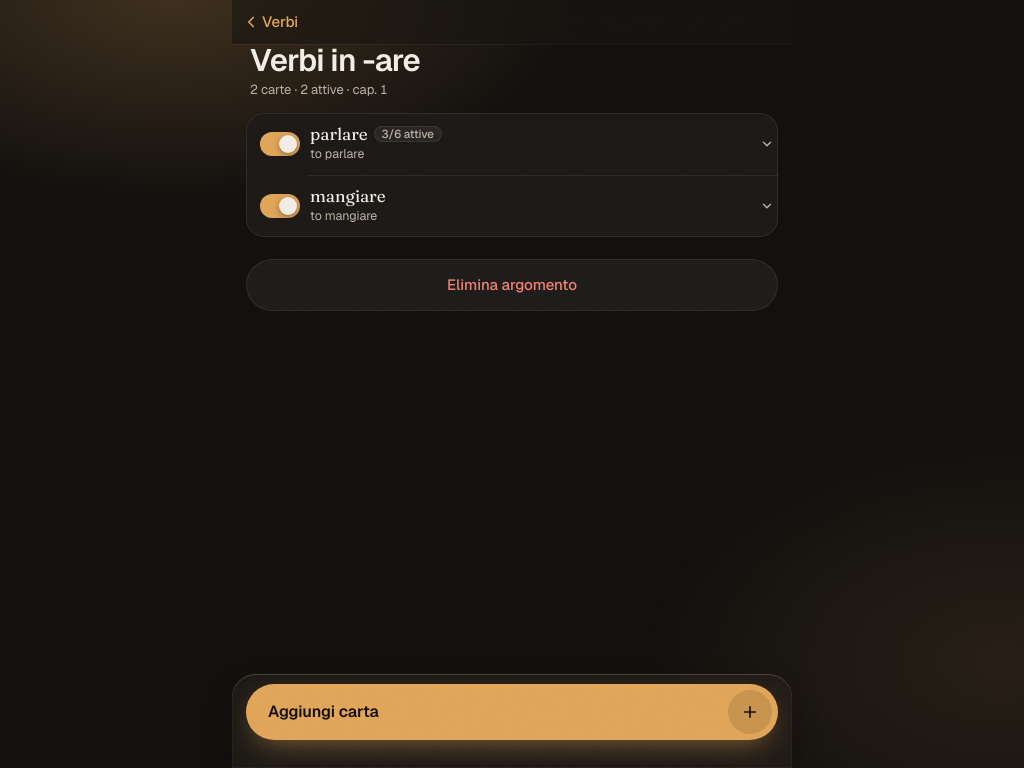
Test case: Modifica argomento › rolls a failed save back and says so
Click the switch named "mangiare": (280, 206) [254, 184, 306, 228]
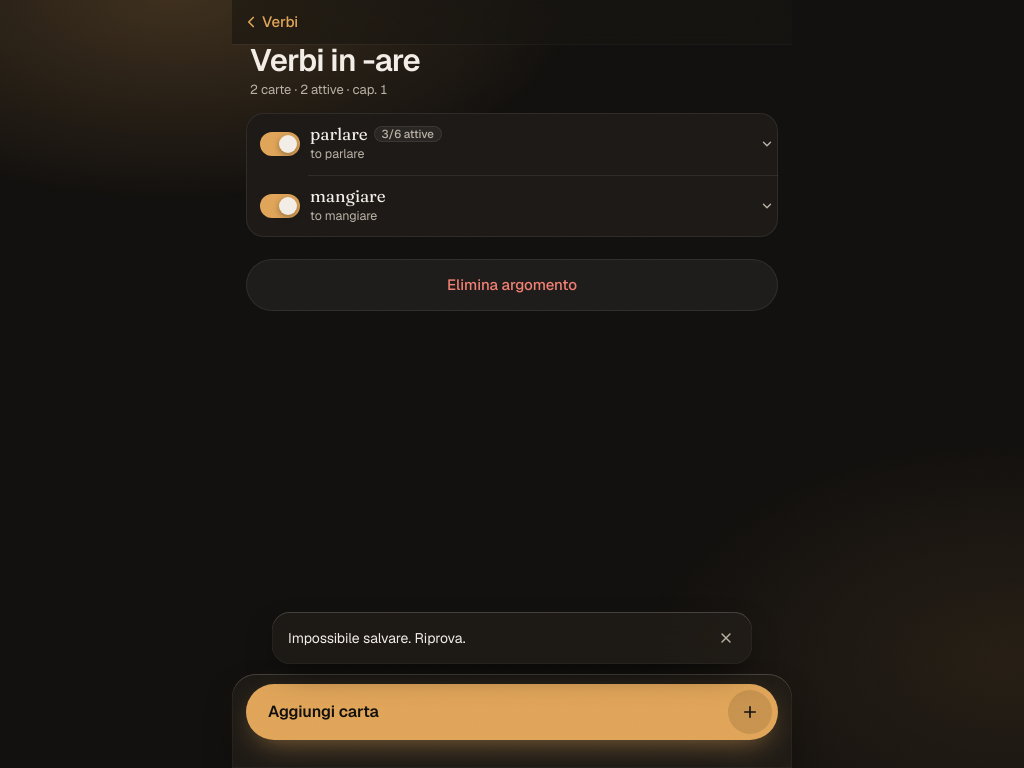
Now the message shows "Impossibile salvare", box [288, 628, 465, 646]
